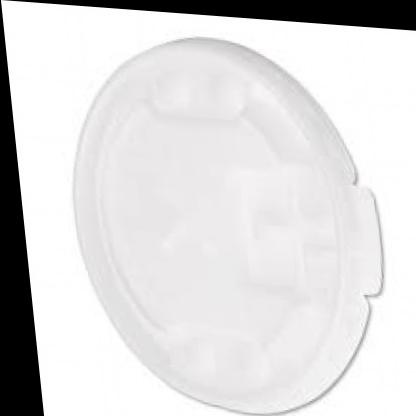trash: (74, 38, 382, 413)
